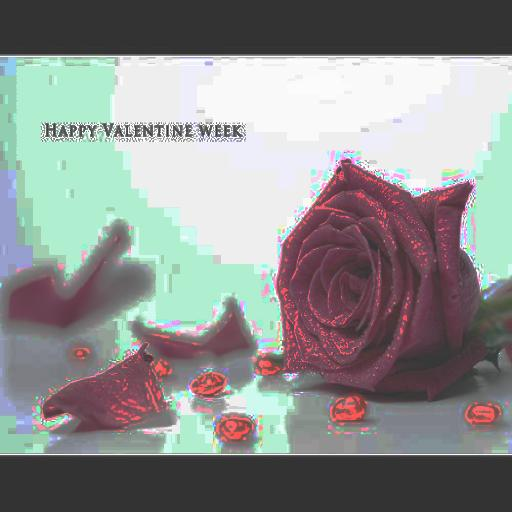rose: (274, 159, 490, 400)
